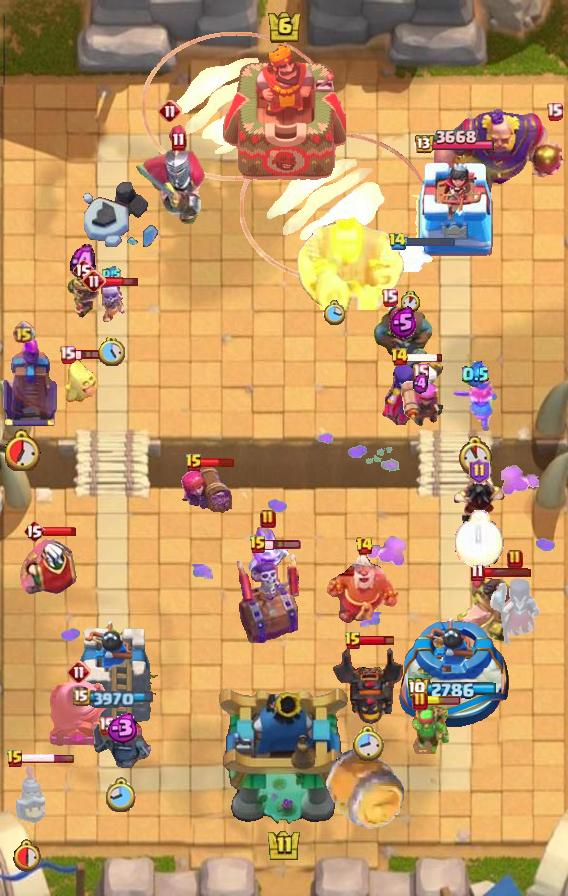archer-evolution: (331, 644, 405, 726)
axe: (380, 359, 444, 425)
bat: (385, 242, 435, 272)
bat-evolution: (64, 359, 98, 403)
battle-ram: (90, 721, 152, 769)
bomber-evolution: (63, 271, 103, 321)
dirt: (321, 745, 407, 833)
electro-spirit: (103, 713, 139, 743), (70, 244, 96, 280), (389, 306, 417, 338), (462, 361, 489, 388), (102, 266, 122, 282), (413, 373, 428, 394)
elixir: (455, 509, 504, 566), (456, 436, 494, 476), (5, 429, 41, 471), (352, 725, 384, 763), (107, 777, 138, 815), (13, 838, 43, 872), (99, 337, 125, 366), (323, 300, 345, 326), (400, 292, 420, 313)
elixir-collector: (325, 551, 403, 625)
emote: (404, 236, 456, 248), (21, 752, 75, 763), (482, 567, 532, 578), (360, 634, 396, 647), (265, 539, 303, 551), (105, 275, 140, 288), (74, 349, 111, 361), (407, 353, 445, 364), (201, 456, 235, 468), (43, 526, 77, 538), (425, 696, 461, 706)
freeze: (455, 569, 525, 643)
giant-skeleton: (295, 216, 405, 310)
giant-snowball: (409, 706, 451, 754)
goblin: (95, 282, 127, 322)
goblin-cage: (47, 679, 111, 749)
hog-rider: (451, 379, 499, 433)
ice-spirit-evolution-symbol: (0, 336, 60, 428)
ice-wizard: (240, 133, 428, 283), (142, 32, 330, 181)
king-tower: (216, 684, 352, 826), (223, 43, 345, 181)
lightning: (430, 109, 568, 205)
lumberjack: (452, 475, 506, 527)
mega-minion: (176, 462, 232, 524)
mirror: (247, 524, 289, 574)
phoenix-small: (370, 302, 436, 372)
princess: (6, 764, 50, 824)
queen-tower: (395, 614, 514, 730), (70, 616, 158, 731), (408, 158, 498, 256)
rascal-boy: (487, 574, 543, 652)
selected: (412, 130, 494, 156), (409, 678, 500, 701), (72, 687, 155, 709)
skeleton-king: (18, 533, 78, 599)
skeleton-king-bar: (237, 549, 303, 643)
text: (158, 99, 182, 123), (82, 269, 106, 293), (67, 660, 91, 684), (469, 458, 490, 484), (13, 321, 36, 344), (72, 258, 94, 282), (23, 519, 45, 543), (354, 536, 374, 556), (390, 347, 409, 367), (388, 232, 407, 251), (185, 453, 203, 473), (249, 535, 267, 555), (344, 631, 362, 651), (6, 749, 24, 769), (545, 103, 563, 121), (382, 288, 399, 307), (59, 344, 76, 363), (412, 363, 429, 382), (260, 509, 276, 529), (507, 549, 523, 569), (412, 691, 428, 711), (98, 717, 115, 735), (470, 563, 485, 581)
tombstone: (398, 376, 443, 426)
wall-breaker-evolution: (134, 123, 206, 225)
